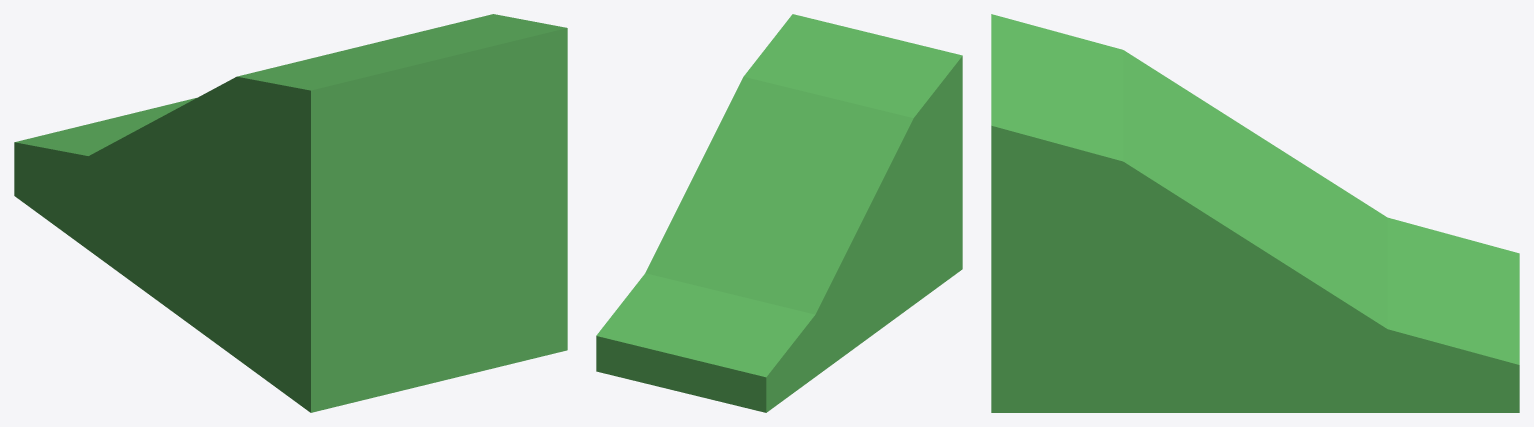
File: Hill_Side.glb
3 views of the same model, side by side, from view 1: azimuth 30°, elevation 25°; view 2: azimuth 150°, elevation 25°; view 3: azimuth 270°, elevation 25° (orthographic). The views are drawn at different scales.
Visible parts, largest first — view 1: object1; view 2: object1; view 3: object1.
Part boxes in pixels (left/top/right/bottom): object1: left=14, top=14, right=567, bottom=412; object1: left=596, top=14, right=962, bottom=412; object1: left=991, top=14, right=1519, bottom=412.
Size of the model in its own units: 1 by 1.2 by 2.
